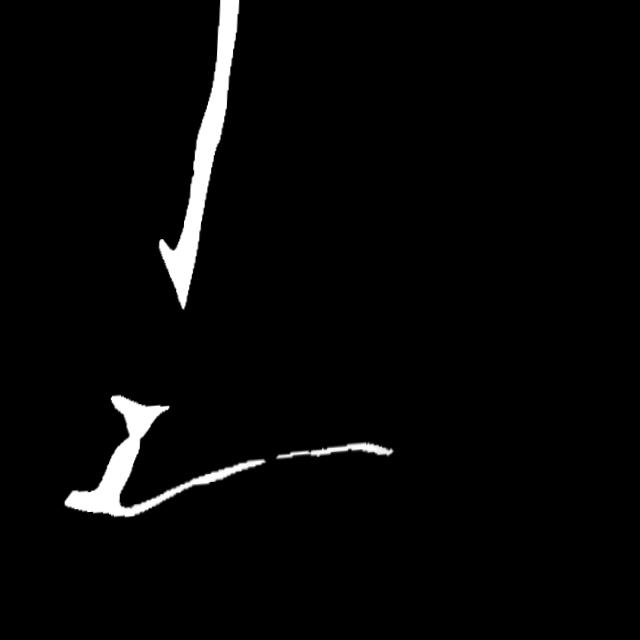sup: (261, 453, 292, 477)
